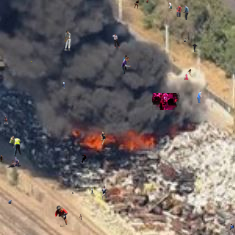Human: (152, 93, 181, 110), (86, 186, 108, 200), (55, 204, 68, 227), (9, 136, 22, 156), (151, 1, 173, 12), (121, 55, 132, 74), (176, 5, 189, 20), (7, 157, 21, 168), (64, 30, 71, 51), (134, 0, 149, 9), (112, 33, 120, 48), (184, 69, 193, 80), (99, 131, 106, 145), (187, 44, 197, 52), (197, 91, 203, 103), (223, 224, 234, 230), (81, 154, 87, 163), (0, 154, 5, 162), (4, 116, 8, 124), (79, 214, 82, 221), (62, 82, 65, 89), (8, 200, 12, 204), (184, 38, 188, 42), (179, 22, 182, 26), (27, 61, 32, 63), (197, 228, 199, 232), (72, 191, 74, 194), (234, 0, 235, 3), (233, 130, 234, 133), (215, 92, 216, 93)
